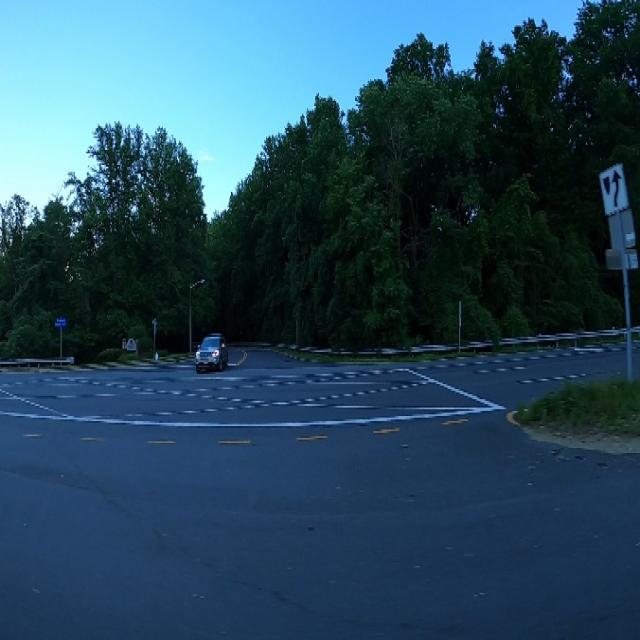car: (192, 318, 227, 386)
